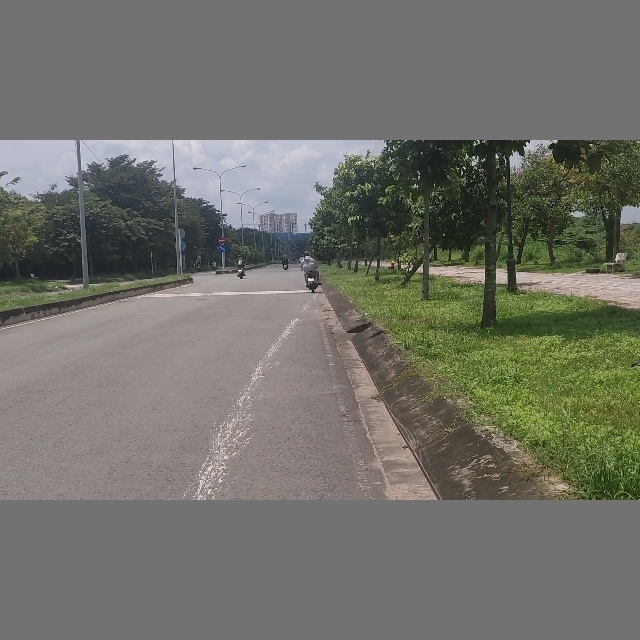P.102: (218, 236, 225, 244)
R.302a: (218, 245, 226, 252)
